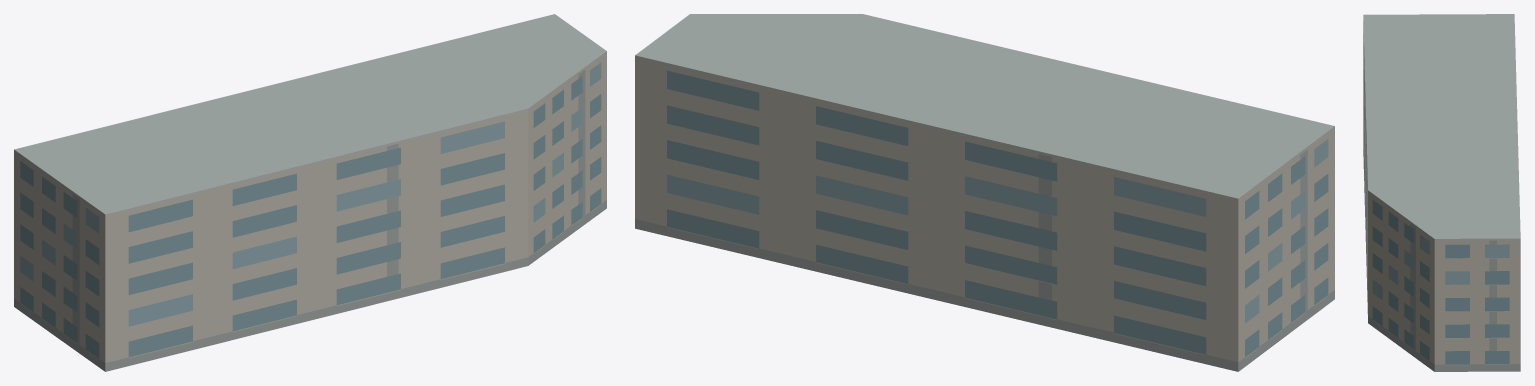
Rendered from residential-1848d177-3089-4d7e-8c1e-41400d95aa17.glb.
The picture shows the model from 3 angles, left to right: view 1: azimuth 30°, elevation 25°; view 2: azimuth 150°, elevation 25°; view 3: azimuth 270°, elevation 25°; orthographic projection. The views are drawn at different scales.
Parts seen in each view (by area): view 1: residential-1848d177-3089-4d7e-8c1e-41400d95aa17.tmp; view 2: residential-1848d177-3089-4d7e-8c1e-41400d95aa17.tmp; view 3: residential-1848d177-3089-4d7e-8c1e-41400d95aa17.tmp.
Part boxes in pixels (x1=…): residential-1848d177-3089-4d7e-8c1e-41400d95aa17.tmp: x1=14, y1=14, x2=606, y2=371; residential-1848d177-3089-4d7e-8c1e-41400d95aa17.tmp: x1=635, y1=14, x2=1334, y2=371; residential-1848d177-3089-4d7e-8c1e-41400d95aa17.tmp: x1=1363, y1=14, x2=1520, y2=371.
Bounding box in the file's own units: 55.32 × 15.25 × 16.36.
